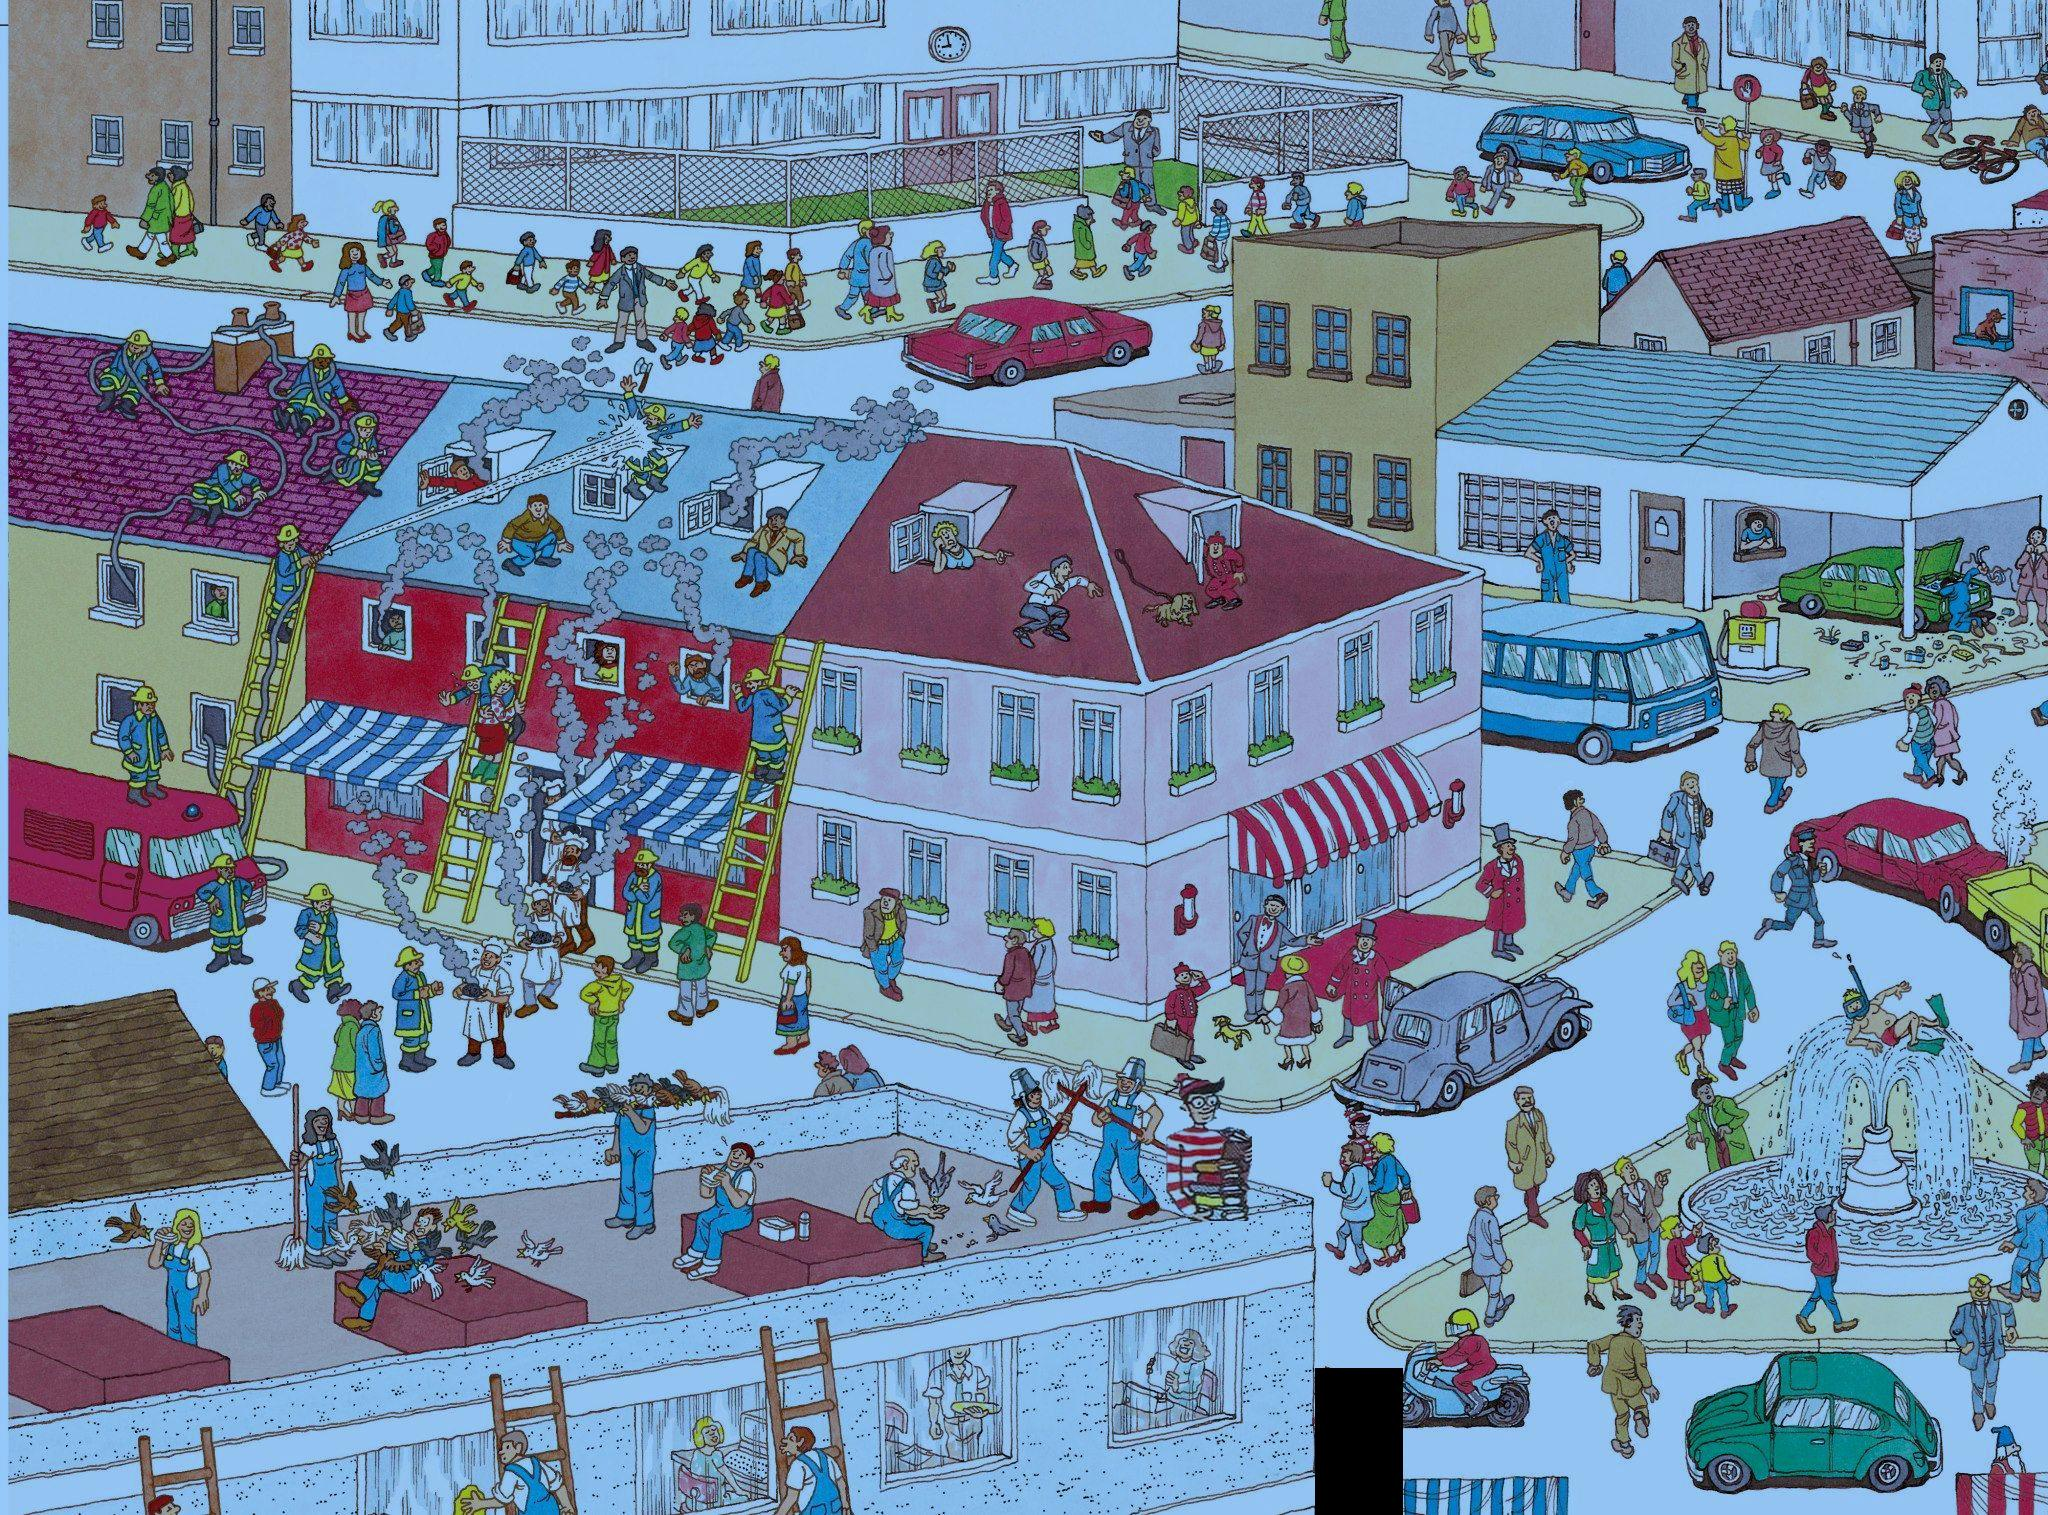waldos: (1163, 1073, 1252, 1221)
